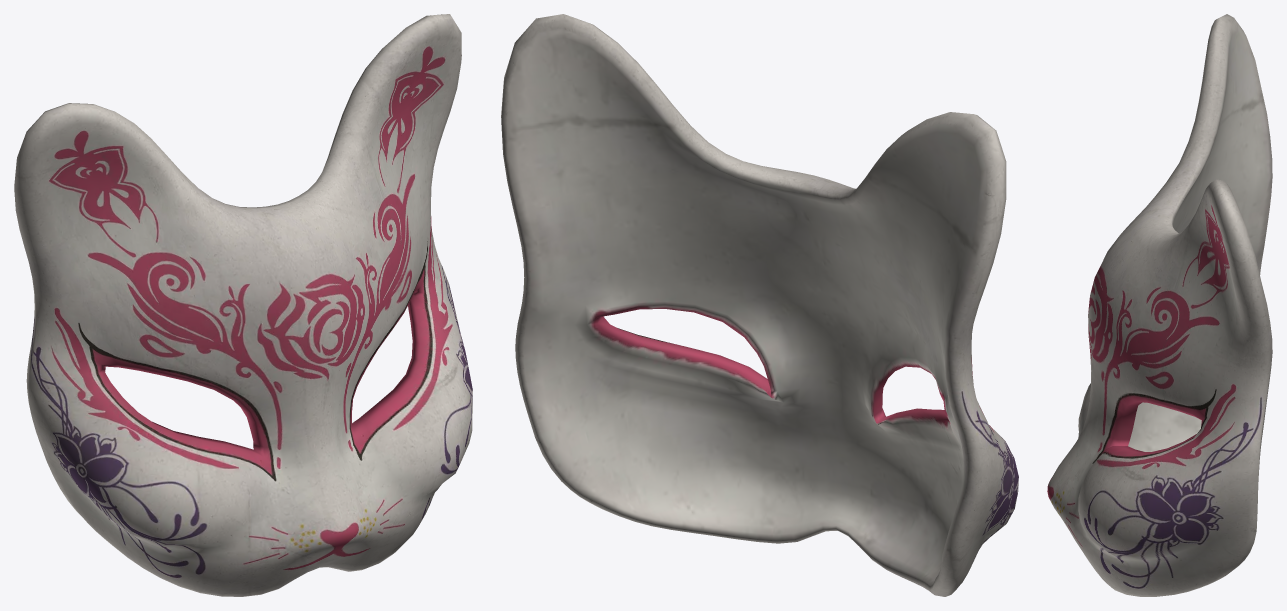
File: mask.glb
The picture shows the model from 3 angles, left to right: view 1: azimuth 30°, elevation 25°; view 2: azimuth 150°, elevation 25°; view 3: azimuth 270°, elevation 25°; orthographic projection. The views are drawn at different scales.
Parts seen in each view (by area): view 1: SM_Mask_01_mask:blinn6_0; view 2: SM_Mask_01_mask:blinn6_0; view 3: SM_Mask_01_mask:blinn6_0.
Boxes of the visible parts, x1=… form: SM_Mask_01_mask:blinn6_0: x1=14, y1=14, x2=472, y2=596; SM_Mask_01_mask:blinn6_0: x1=501, y1=14, x2=1018, y2=596; SM_Mask_01_mask:blinn6_0: x1=1047, y1=14, x2=1272, y2=596.
Size of the model in its own units: 0.1778 by 0.1843 by 0.083.
Materials: 1 (1 with a texture image).
